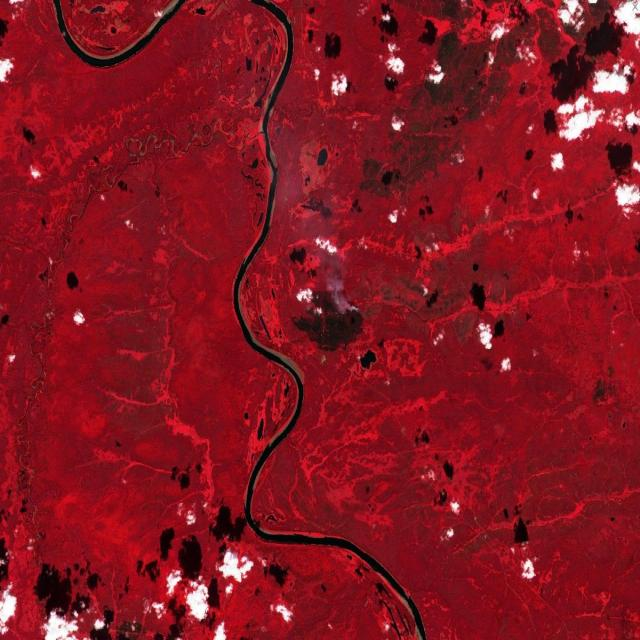fire: (326, 286, 362, 324)
